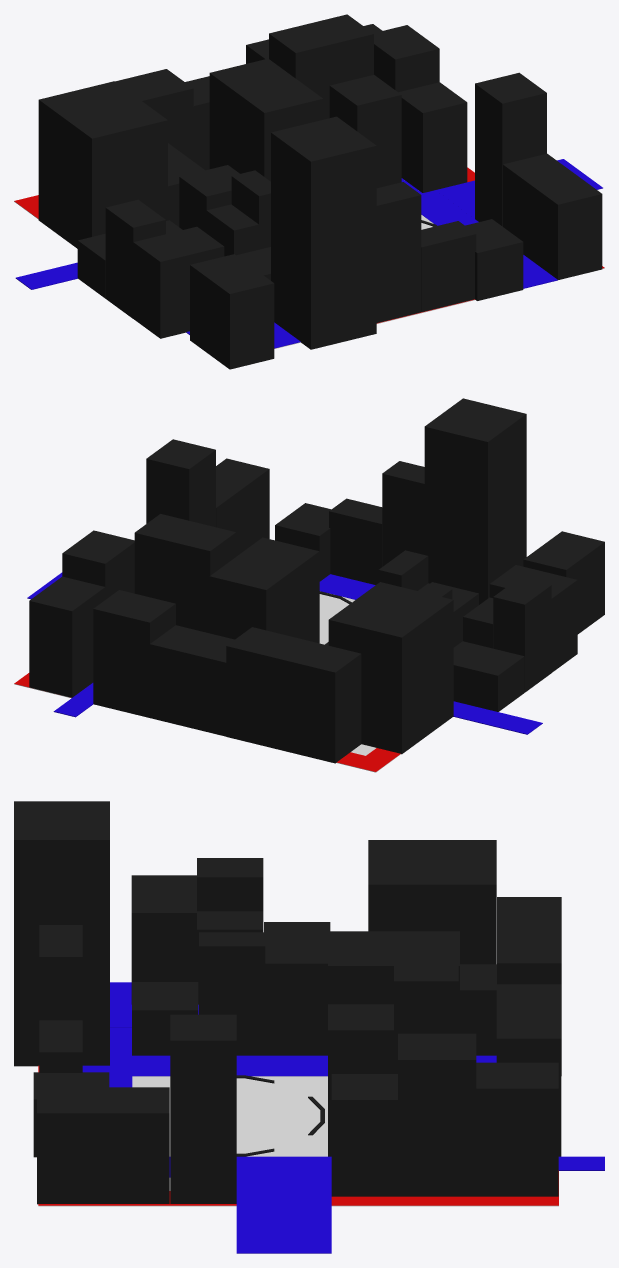
File: Centro.fbx
3 views of the same model, one above another, from view 1: azimuth 30°, elevation 25°; view 2: azimuth 150°, elevation 25°; view 3: azimuth 270°, elevation 25° (orthographic). The views are drawn at different scales.
Visible parts, largest first — view 1: Rua.004; view 2: Rua.004; view 3: Rua.004.
Part boxes in pixels (x1,y1,x2,y2): Rua.004: (14, 14, 604, 369); Rua.004: (14, 398, 604, 772); Rua.004: (14, 801, 604, 1253).
Size of the model in its own units: 19697 by 6652 by 15724.
